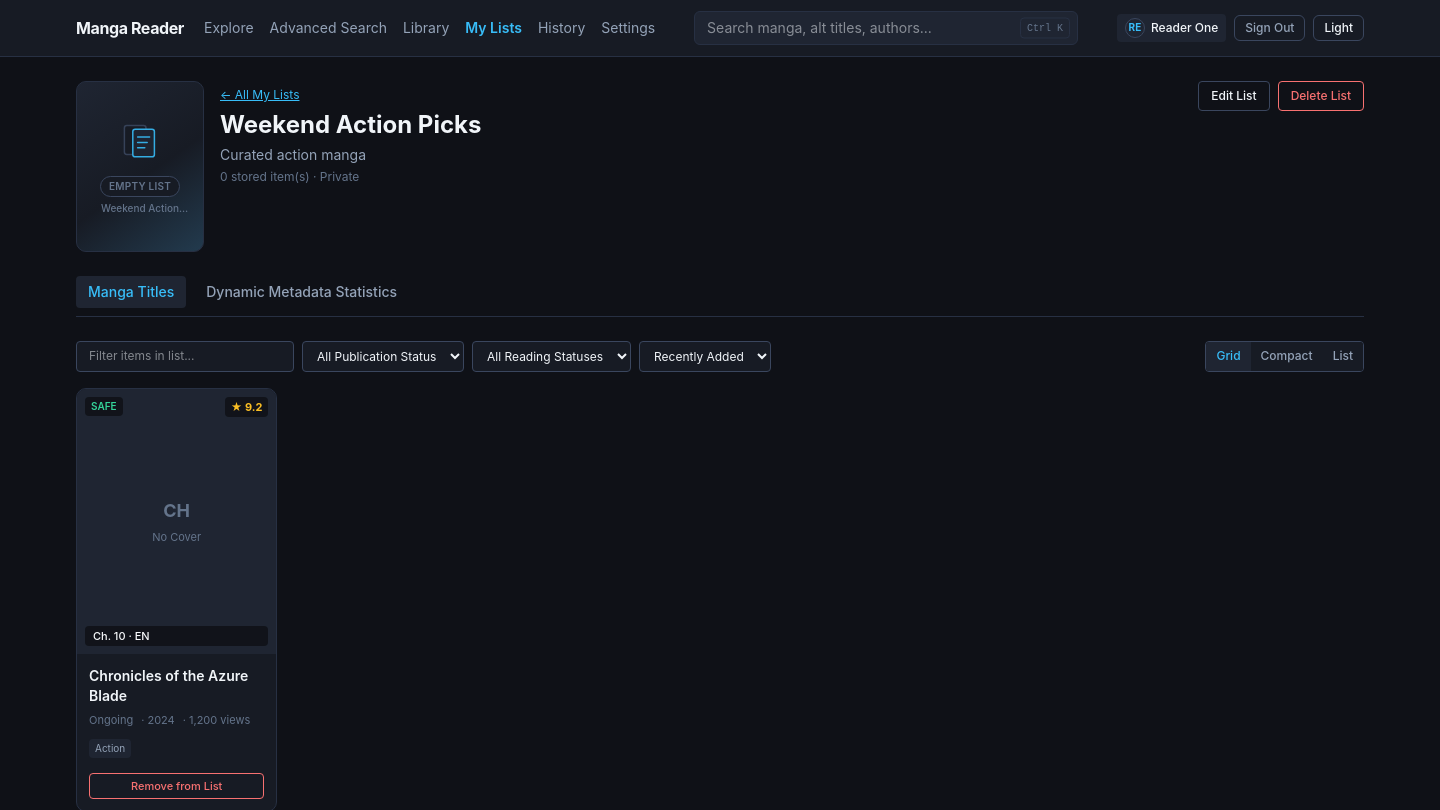
Test case: Manga Reader Frontend Application › renders private reading list detail and exact empty Vietnamese metadata stats copy
Expected: the heading "Weekend Action Picks" is shown, [220,110,481,139]
What coordinates should you click on to do the following:
click the button "Dynamic Metadata Statistics"
I would click on:
 (302, 292)
Its box is [194,276,409,308].
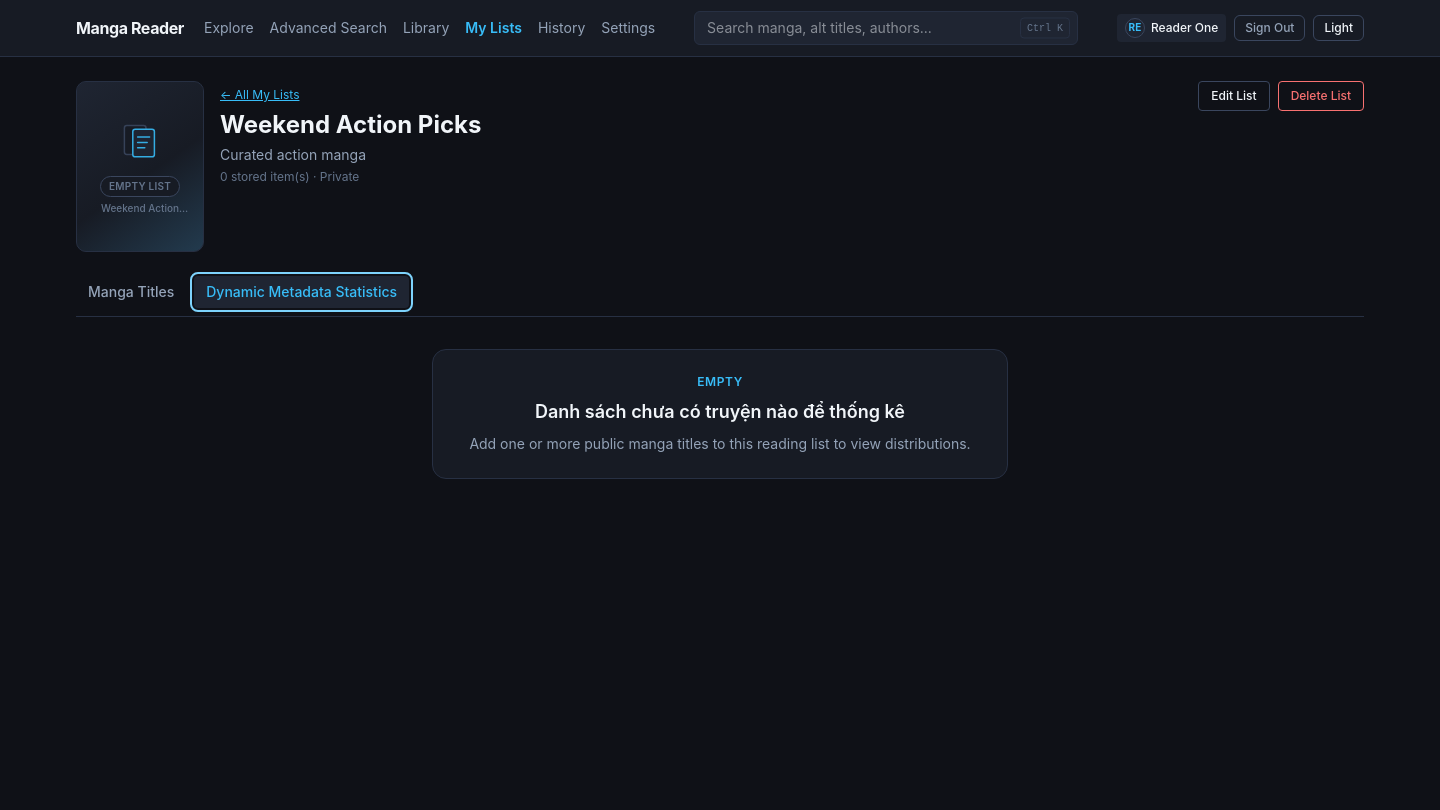
Now the heading "Danh sách chưa có truyện nào để thống kê" is shown, box [535,401,905,422]
